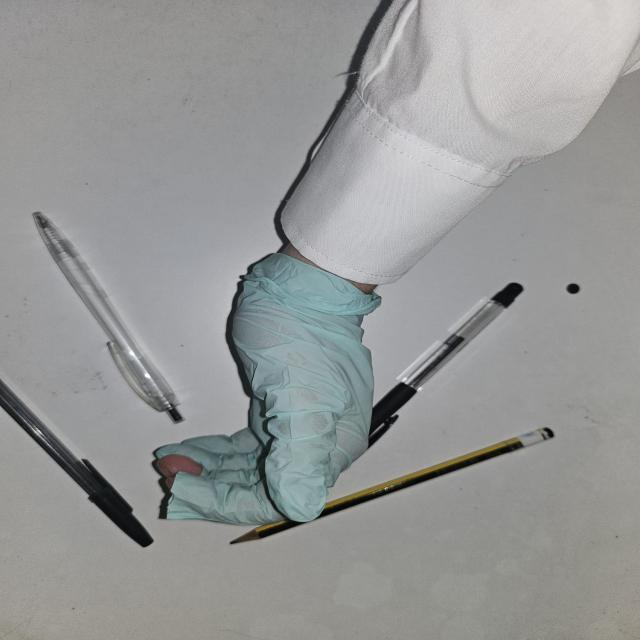gloves_damaged: (150, 248, 380, 522)
